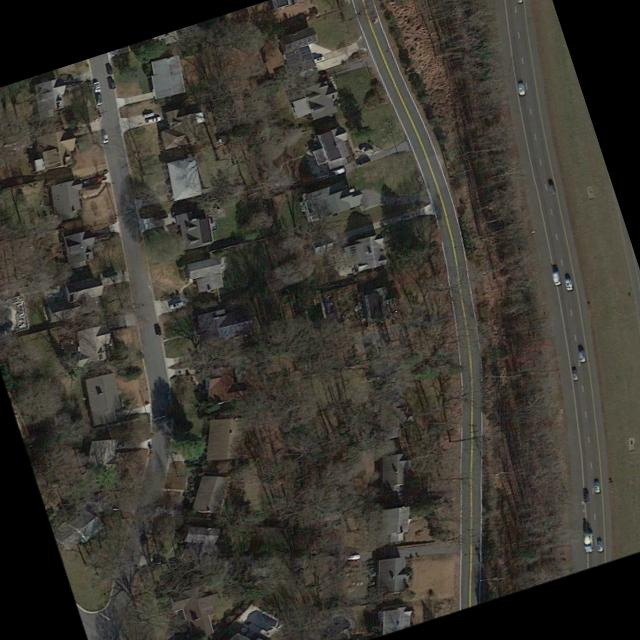large-vehicle: (584, 532, 594, 554)
small-vehicle: (355, 156, 372, 167), (360, 145, 377, 155), (552, 271, 562, 286), (169, 301, 184, 310), (593, 480, 602, 494), (147, 115, 162, 123), (312, 55, 326, 63), (104, 270, 118, 278), (583, 490, 591, 504), (579, 349, 587, 363), (518, 82, 526, 96), (93, 81, 101, 94), (108, 77, 116, 90), (154, 324, 162, 337), (565, 278, 573, 291), (105, 63, 114, 74), (549, 184, 557, 196), (597, 540, 604, 553), (572, 369, 579, 381), (143, 112, 155, 119), (103, 133, 110, 144), (97, 93, 103, 105), (517, 0, 523, 4)
